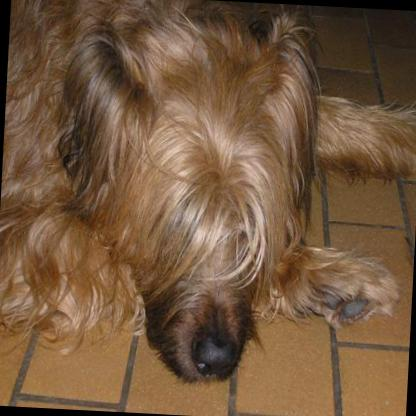briard: (0, 0, 416, 393)
